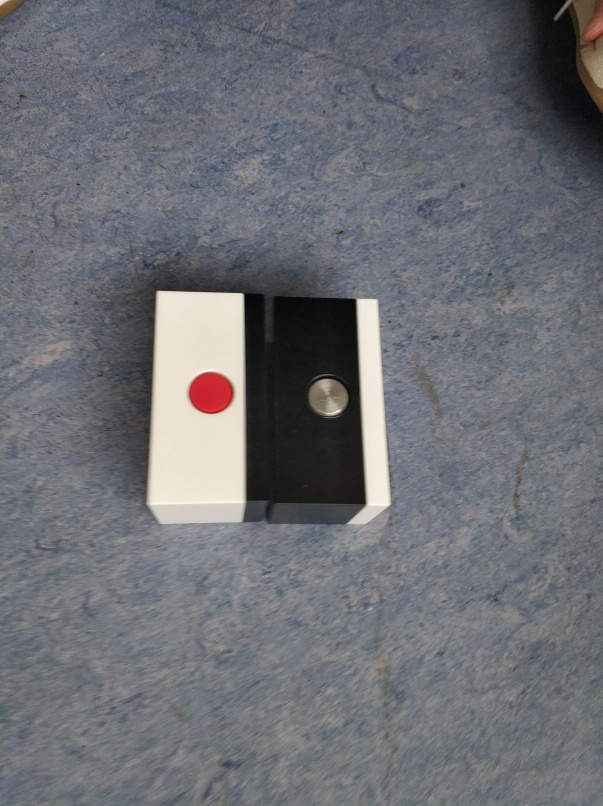black+white+red: (144, 286, 269, 531)
white+black+silver: (269, 293, 394, 527)
